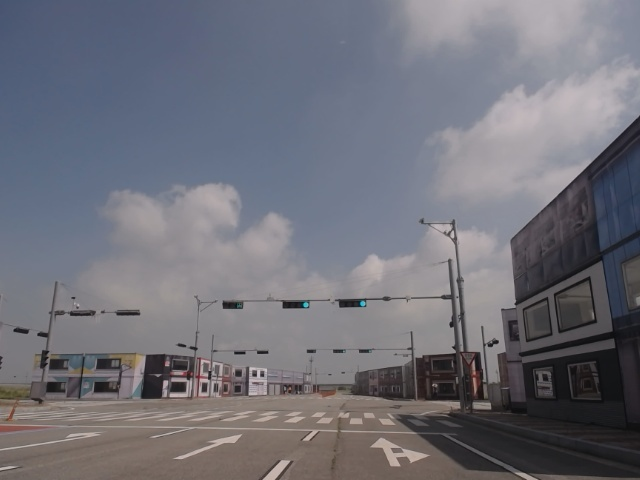straight_green_4: (337, 299, 368, 308), (282, 301, 311, 308)
